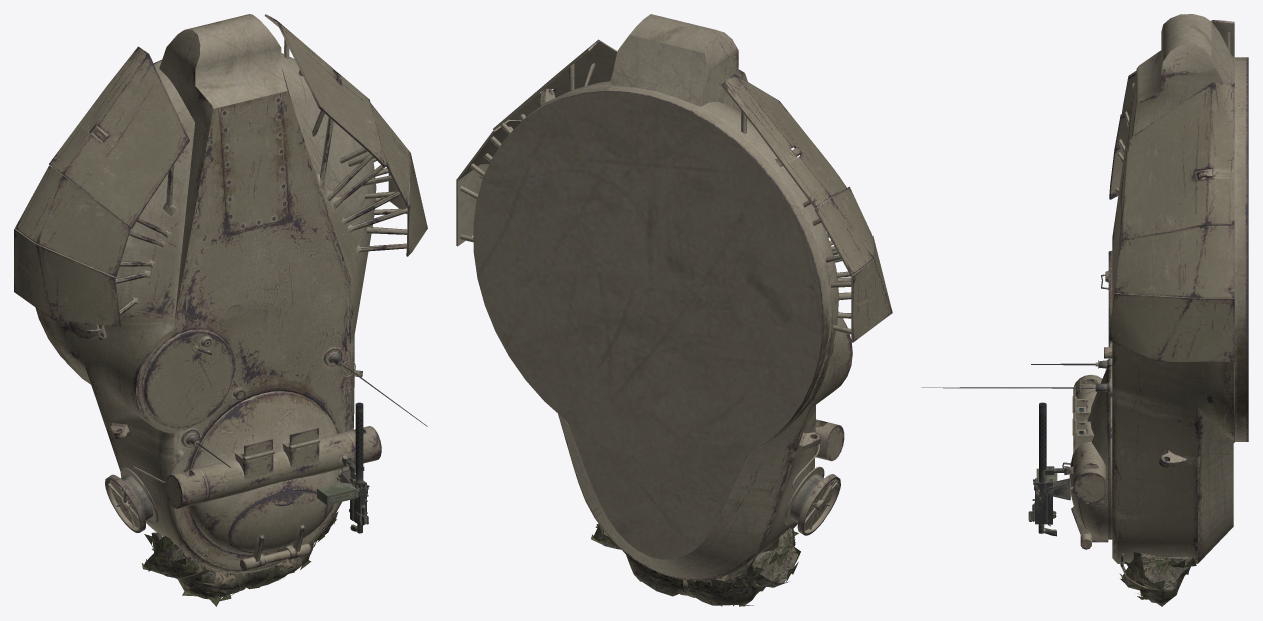
The model's file is Turret_01.glb.
3 views of the same model, side by side, from view 1: azimuth 30°, elevation 25°; view 2: azimuth 150°, elevation 25°; view 3: azimuth 270°, elevation 25° (orthographic). The views are drawn at different scales.
Visible parts, largest first — view 1: set_0_group_0; view 2: set_0_group_0; view 3: set_0_group_0.
Boxes of the visible parts, x1,y1,x2,y2 form: set_0_group_0: [14, 14, 427, 606]; set_0_group_0: [456, 14, 892, 606]; set_0_group_0: [921, 14, 1248, 606].
Size of the model in its own units: 3.12 by 4.44 by 2.34.
Materials: 1 (1 with a texture image).
